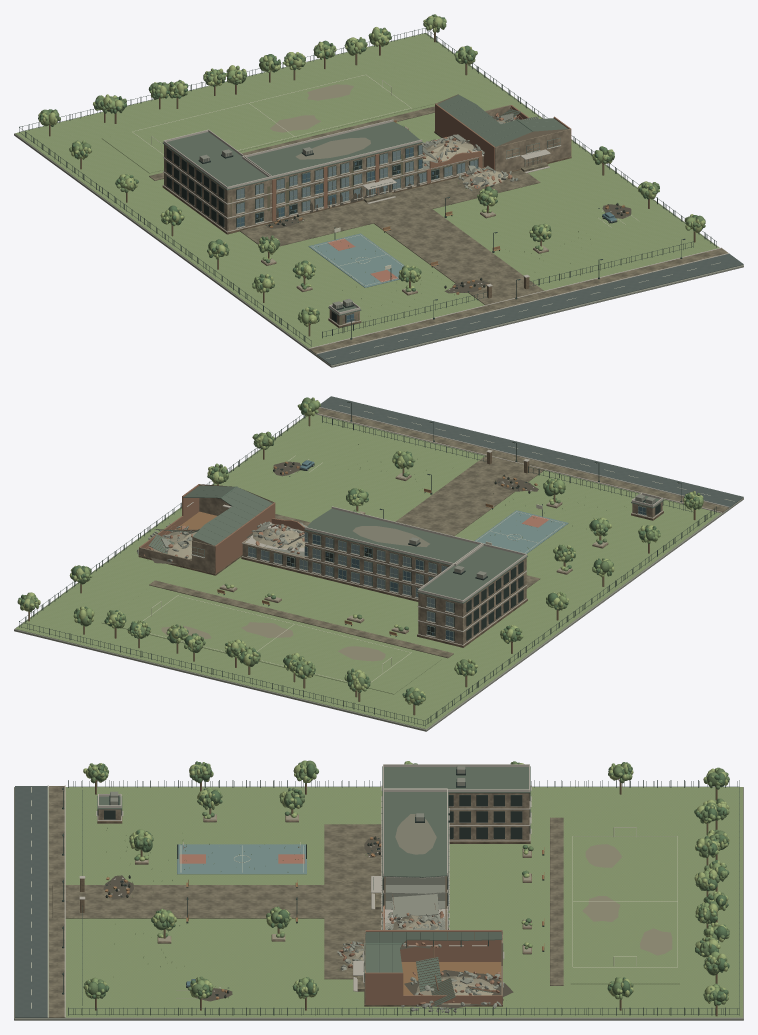
File: school-abandoned.glb
3 views of the same model, one above another, from view 1: azimuth 30°, elevation 25°; view 2: azimuth 150°, elevation 25°; view 3: azimuth 270°, elevation 25° (orthographic). The views are drawn at different scales.
Parts seen in each view (by area): view 1: 材质批次_grass, 材质批次_plaza_paving, 材质批次_sage_metal_roof, 材质批次_limestone, 材质批次_asphalt, 材质批次_warm_cream_trim, 材质批次_poi_service_concrete, 材质批次_street_metal, 材质批次_leaf_2, 材质批次_leaf_0, 材质批次_leaf_1, 材质批次_recess_shadow (+13 smaller); view 2: 材质批次_grass, 材质批次_plaza_paving, 材质批次_sage_metal_roof, 材质批次_limestone, 材质批次_asphalt, 材质批次_warm_cream_trim, 材质批次_street_metal, 材质批次_poi_service_concrete, 材质批次_leaf_1, 材质批次_leaf_2, 材质批次_leaf_0, 材质批次_recess_shadow (+14 smaller); view 3: 材质批次_grass, 材质批次_plaza_paving, 材质批次_sage_metal_roof, 材质批次_poi_service_concrete, 材质批次_asphalt, 材质批次_poi_brick_red, 材质批次_warm_cream_trim, 材质批次_street_metal, 材质批次_leaf_1, 材质批次_leaf_3, 材质批次_school_court, 材质批次_limestone (+13 smaller).
Part boxes in pixels (<box>): 材质批次_grass: <box>15,33,719,348</box>; 材质批次_plaza_paving: <box>149,106,727,353</box>; 材质批次_sage_metal_roof: <box>162,94,567,315</box>; 材质批次_limestone: <box>164,94,570,325</box>; 材质批次_asphalt: <box>317,253,743,365</box>; 材质批次_warm_cream_trim: <box>163,119,729,354</box>; 材质批次_poi_service_concrete: <box>14,33,743,367</box>; 材质批次_street_metal: <box>19,27,716,346</box>; 材质批次_leaf_2: <box>38,16,704,326</box>; 材质批次_leaf_0: <box>38,16,705,324</box>; 材质批次_leaf_1: <box>38,14,705,325</box>; 材质批次_recess_shadow: <box>166,144,620,322</box>; 材质批次_grass: <box>15,414,720,729</box>; 材质批次_plaza_paving: <box>149,407,728,658</box>; 材质批次_sage_metal_roof: <box>148,485,663,603</box>; 材质批次_limestone: <box>139,475,662,644</box>; 材质批次_asphalt: <box>320,396,743,507</box>; 材质批次_warm_cream_trim: <box>187,407,729,645</box>; 材质批次_street_metal: <box>19,401,716,726</box>; 材质批次_poi_service_concrete: <box>14,417,743,731</box>; 材质批次_leaf_1: <box>17,397,701,704</box>; 材质批次_leaf_2: <box>18,397,703,704</box>; 材质批次_leaf_0: <box>20,400,703,705</box>; 材质批次_recess_shadow: <box>248,463,660,640</box>; 材质批次_grass: <box>48,787,742,1017</box>; 材质批次_plaza_paving: <box>49,786,563,1017</box>; 材质批次_sage_metal_roof: <box>97,766,530,1006</box>; 材质批次_poi_service_concrete: <box>14,765,743,1020</box>; 材质批次_asphalt: <box>15,786,47,1017</box>; 材质批次_poi_brick_red: <box>338,905,503,1006</box>; 材质批次_warm_cream_trim: <box>47,764,531,1017</box>; 材质批次_street_metal: <box>62,767,739,1015</box>; 材质批次_leaf_1: <box>83,760,729,1006</box>; 材质批次_leaf_3: <box>89,761,729,1005</box>; 材质批次_school_court: <box>177,844,306,874</box>; 材质批次_limestone: <box>98,793,531,1004</box>.
Size of the model in its own units: 122 by 14.55 by 160.
Materials: 36 (5 with a texture image).
